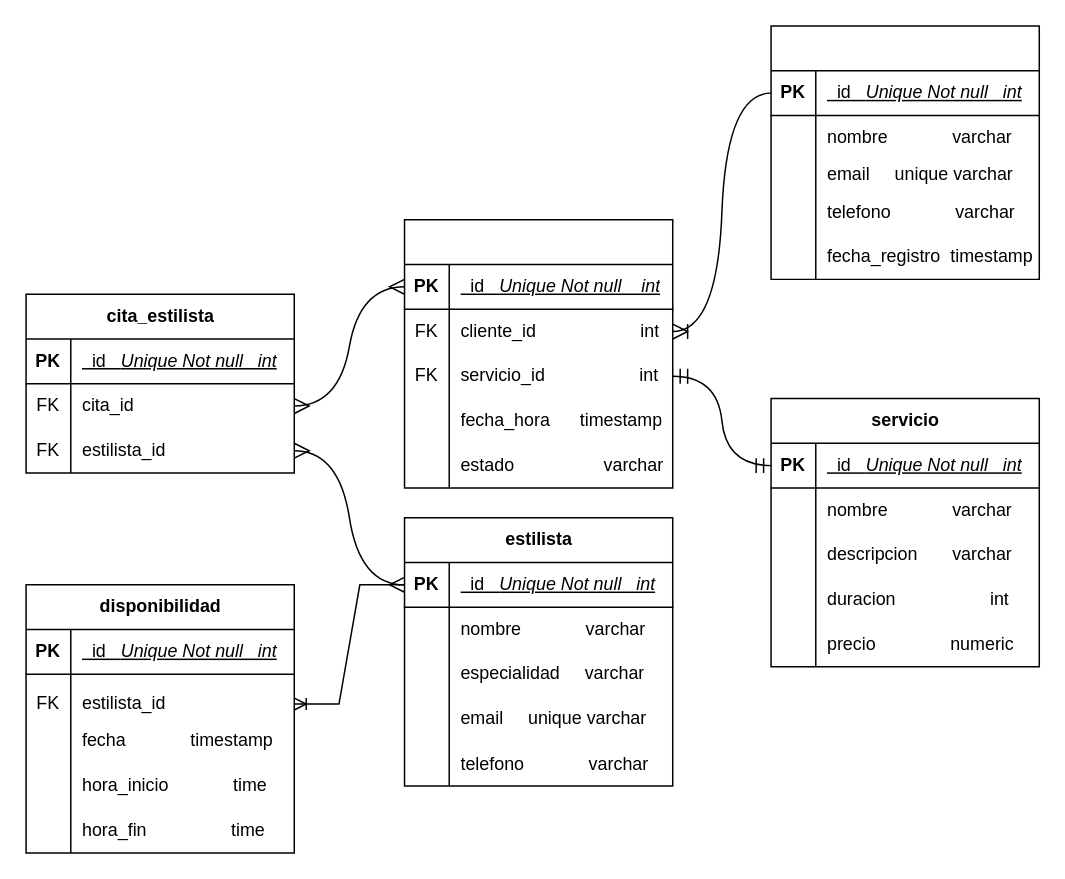
This 1065x879 diagram has some shape labels left out. Each missing label, with the box of its shape:
citas: (403, 218, 673, 488)
cliente: (770, 25, 1039, 279)
